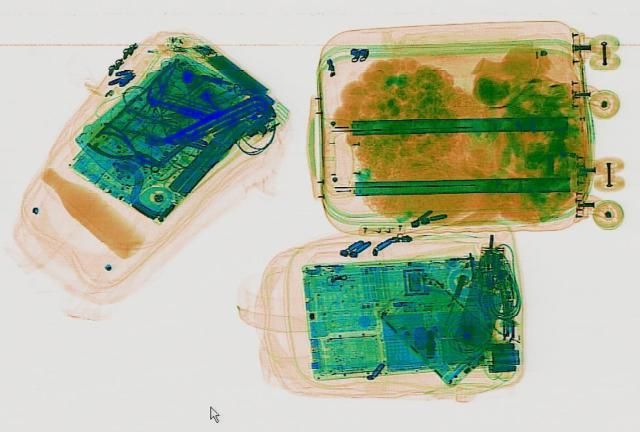Pliers: (78, 126, 170, 175)
